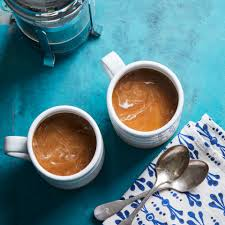cup: (1, 104, 106, 195)
